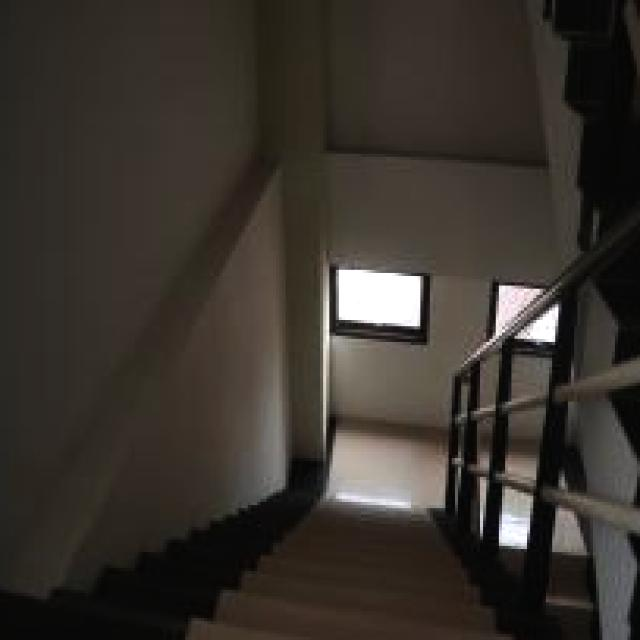downstair: (133, 490, 462, 640)
